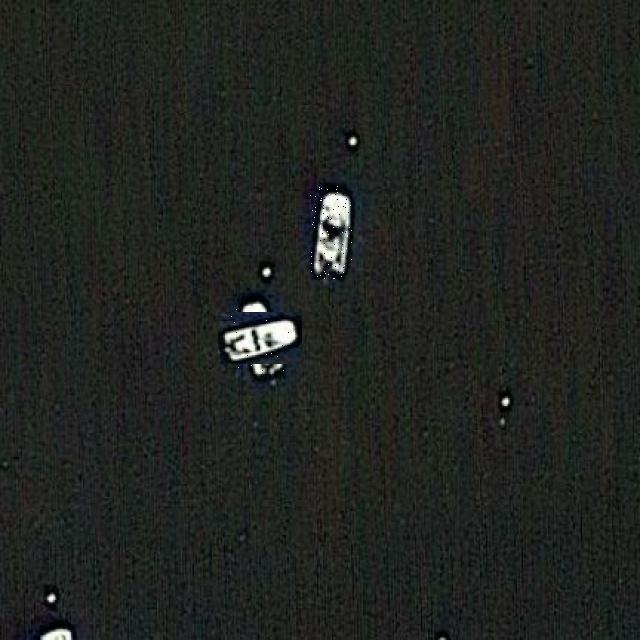boat: (226, 304, 294, 373), (310, 186, 352, 279)
